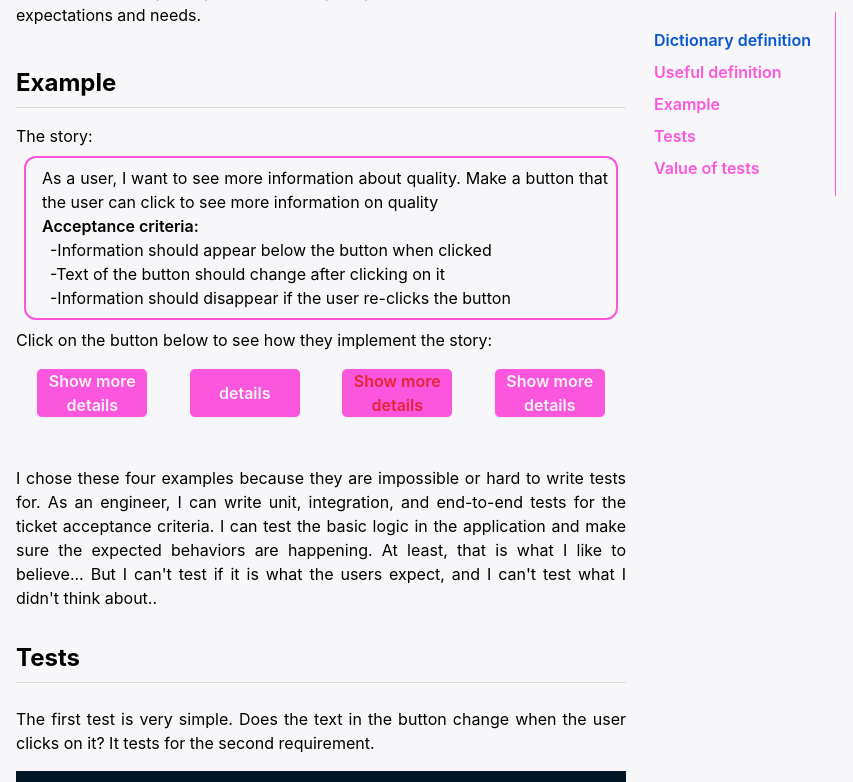
Test: home page › example buttons › should change the text wording when the button is clicked
(page scrolled)
Click the 1st button "Show more details" at (92, 393), box [36,368,148,418]
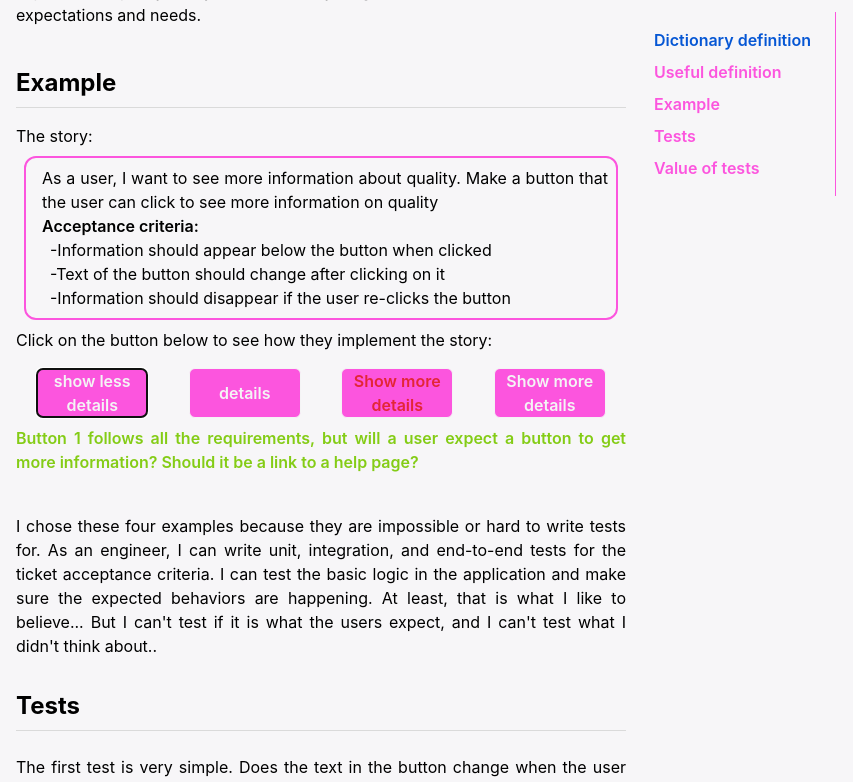
Expected: the number of buttons "show less details" is 1, [36,368,148,418]
Now the button "show less details" is shown, box [36,368,148,418]
